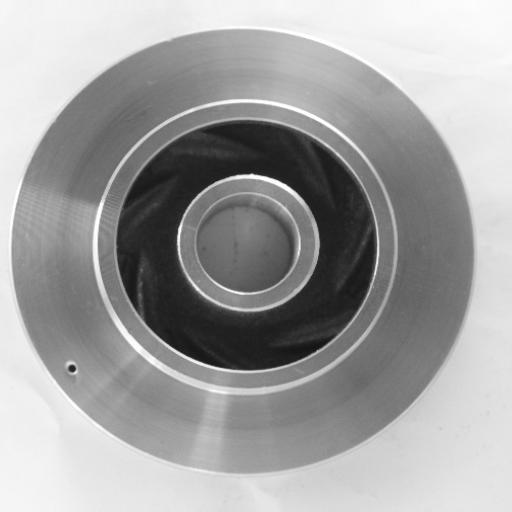pit: (55, 355, 84, 381)
unpolished_casting: (12, 25, 476, 478)
